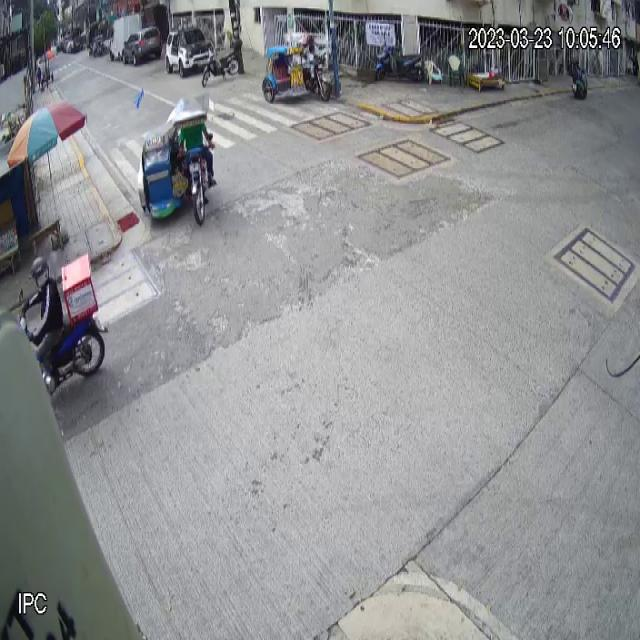Motorcycle: (17, 282, 110, 394)
Tricycle: (137, 90, 218, 227), (262, 32, 332, 104)
